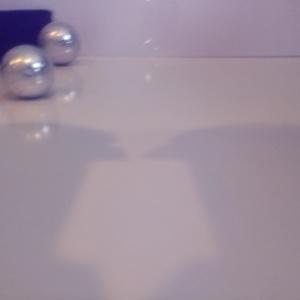zone: (1, 8, 52, 66)
